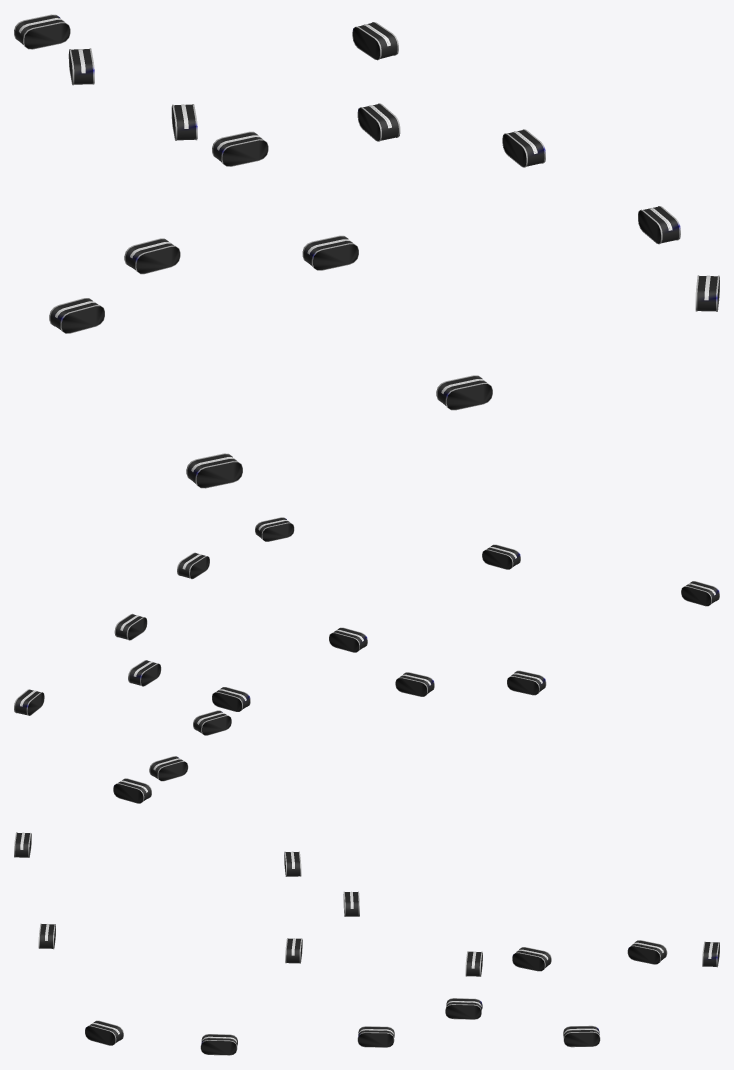
File: pink tempat pensil.fbx
3 views of the same model, one above another, from view 1: azimuth 30°, elevation 25°; view 2: azimuth 150°, elevation 25°; view 3: azimuth 270°, elevation 25° (orthographic). The views are drawn at different scales.
Parts seen in each view (by area): view 1: tempat pensil_main.006; view 2: tempat pensil_main.006; view 3: tempat pensil_main.006.
Boxes of the visible parts, <box> form: tempat pensil_main.006: <box>14,14,719,488</box>; tempat pensil_main.006: <box>14,517,719,803</box>; tempat pensil_main.006: <box>14,832,719,1055</box>.
Size of the model in its own units: 276 by 8.89 by 390.
